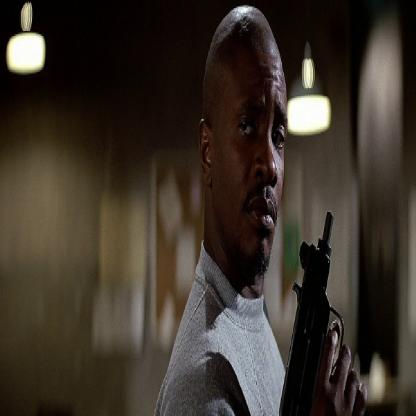Guns: (274, 204, 346, 414)
